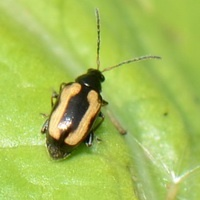insect: (41, 8, 160, 159)
